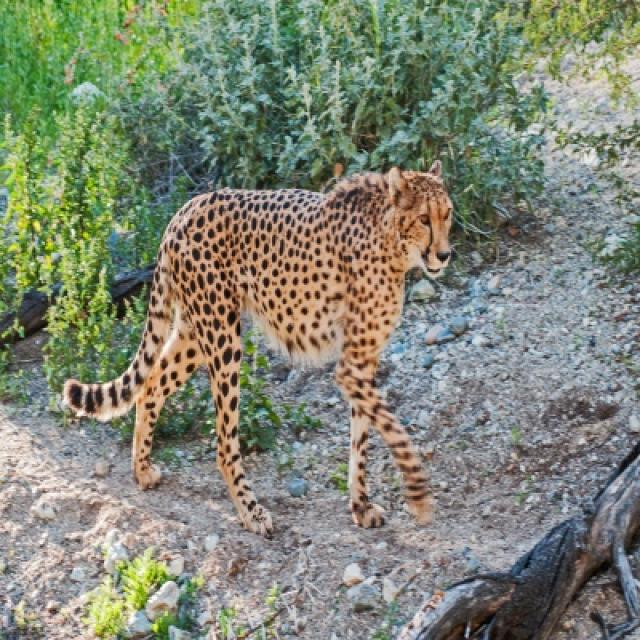Cheetah: (62, 163, 456, 539)
